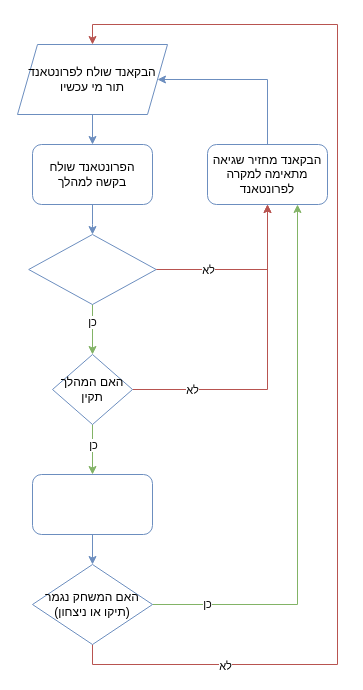
Image size: 363x690. Some labels were removed from this diagram. Here are the shapes that lost their labels. From the top down, the centre of each, then its label:
the point at 92,269: האם יש חייל במקום
the point at 92,504: הבקאנד שולח לפרונטאנד לוח מעודכן ובכך המהלך בוצע
